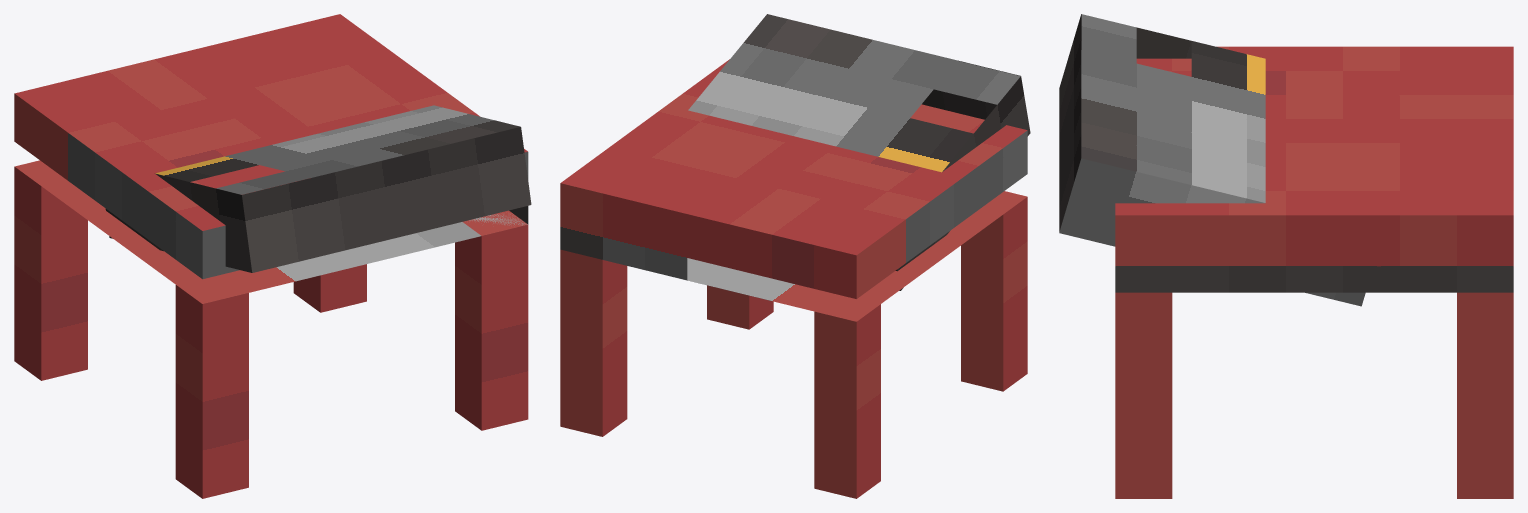
File: programmer.obj
The picture shows the model from 3 angles, left to right: view 1: azimuth 30°, elevation 25°; view 2: azimuth 150°, elevation 25°; view 3: azimuth 270°, elevation 25°; orthographic projection. The views are drawn at different scales.
Bounding box in the file's own units: 0.875 × 0.796 × 0.9981.
